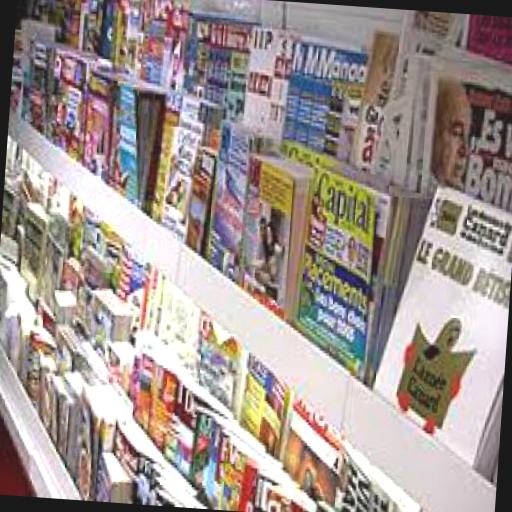paper: (363, 175, 512, 487), (294, 159, 404, 376), (401, 38, 512, 215), (379, 8, 464, 190), (202, 114, 288, 280), (230, 146, 314, 310), (274, 142, 342, 312), (280, 36, 368, 163), (151, 86, 218, 239), (241, 22, 314, 162), (164, 368, 234, 500), (184, 401, 268, 508), (178, 4, 262, 108), (274, 389, 344, 498), (106, 74, 162, 206), (69, 378, 129, 501), (46, 44, 110, 150), (126, 327, 180, 452), (323, 450, 420, 512), (104, 236, 159, 344), (215, 428, 285, 512), (232, 342, 290, 442), (106, 409, 164, 503), (79, 60, 125, 178), (150, 274, 204, 370), (356, 31, 392, 170), (115, 0, 170, 89), (0, 252, 37, 374), (194, 310, 240, 406), (14, 14, 58, 112), (75, 203, 125, 289), (0, 135, 30, 262), (22, 35, 63, 126), (36, 360, 74, 456), (40, 176, 83, 258), (160, 1, 190, 114), (142, 458, 210, 507), (8, 142, 60, 206), (184, 140, 214, 246), (457, 14, 512, 70), (84, 287, 132, 348), (18, 197, 52, 282), (22, 318, 56, 400), (17, 0, 80, 42), (280, 134, 343, 172), (93, 444, 132, 500), (41, 212, 66, 298), (256, 478, 319, 512), (101, 336, 136, 386), (64, 335, 102, 379), (196, 94, 228, 143), (72, 0, 102, 49), (50, 320, 81, 360), (95, 0, 115, 59), (52, 277, 74, 320), (64, 252, 86, 292), (308, 497, 347, 512)
